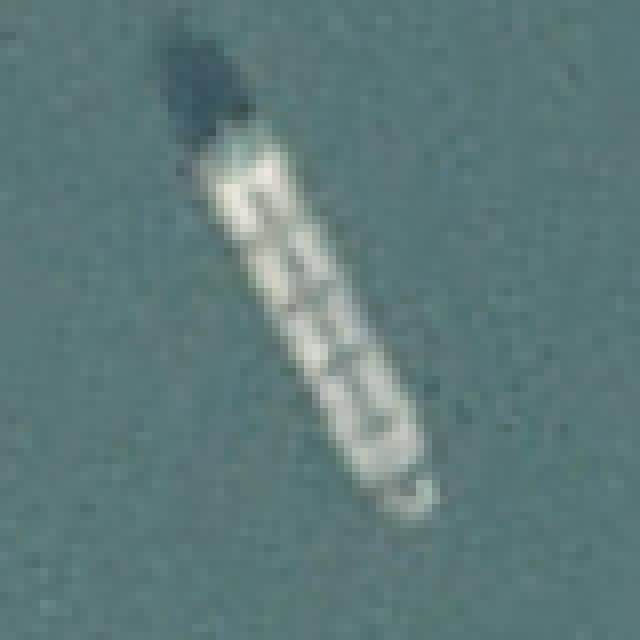ship: (158, 55, 515, 552)
